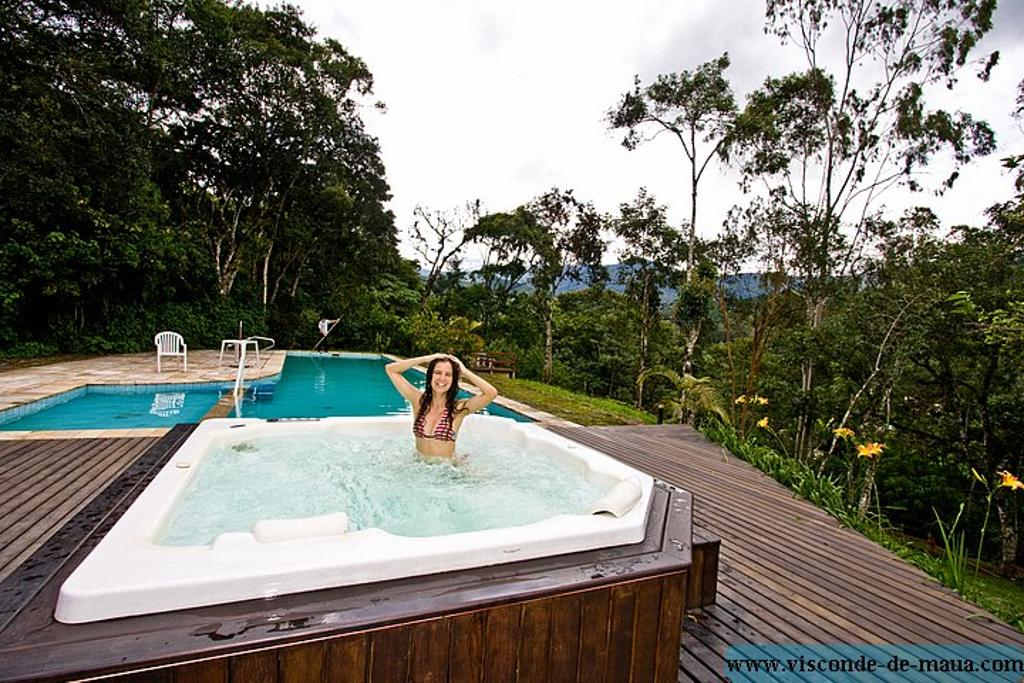face: (431, 362, 452, 393)
